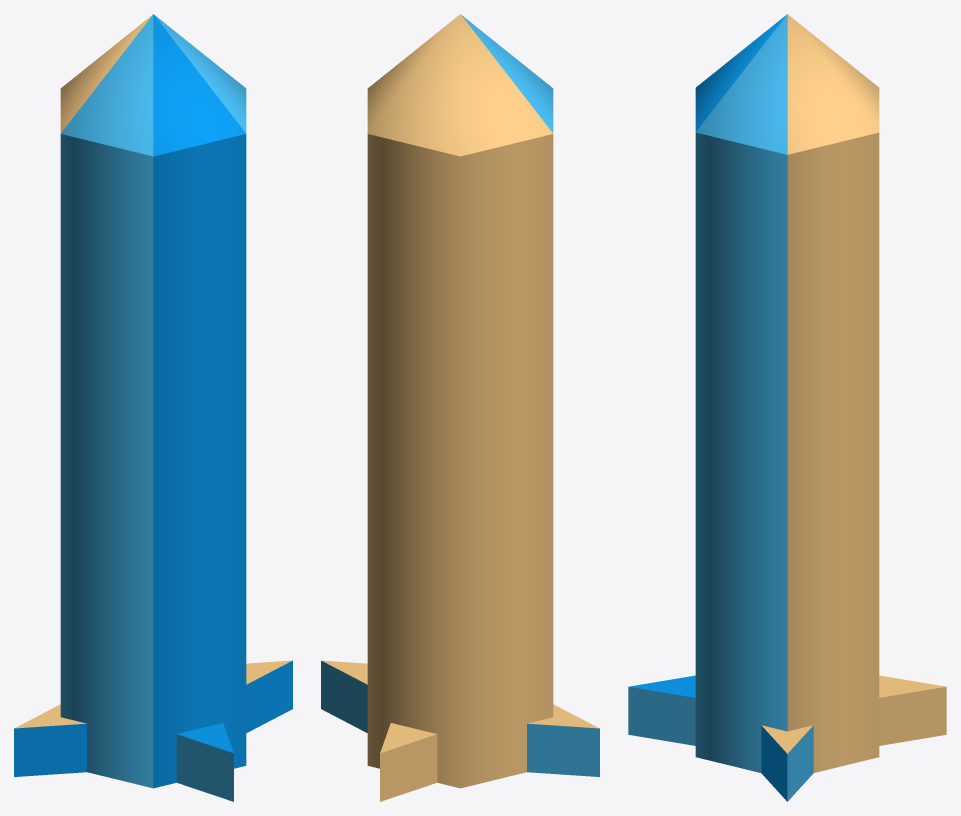
The model's file is Solo.MissileMesh.BlueMoon.glb.
3 views of the same model, side by side, from view 1: azimuth 30°, elevation 25°; view 2: azimuth 150°, elevation 25°; view 3: azimuth 270°, elevation 25° (orthographic).
Visible parts, largest first — view 1: Solo.MissileMesh.BlueMoon; view 2: Solo.MissileMesh.BlueMoon; view 3: Solo.MissileMesh.BlueMoon.
Part boxes in pixels (box(x1,y1,x2,y2)): Solo.MissileMesh.BlueMoon: box(14, 14, 292, 801); Solo.MissileMesh.BlueMoon: box(321, 14, 599, 801); Solo.MissileMesh.BlueMoon: box(628, 14, 946, 801).
Bounding box in the file's own units: 0.6 × 1.5 × 0.6.
Materials: 1 (1 with a texture image).
